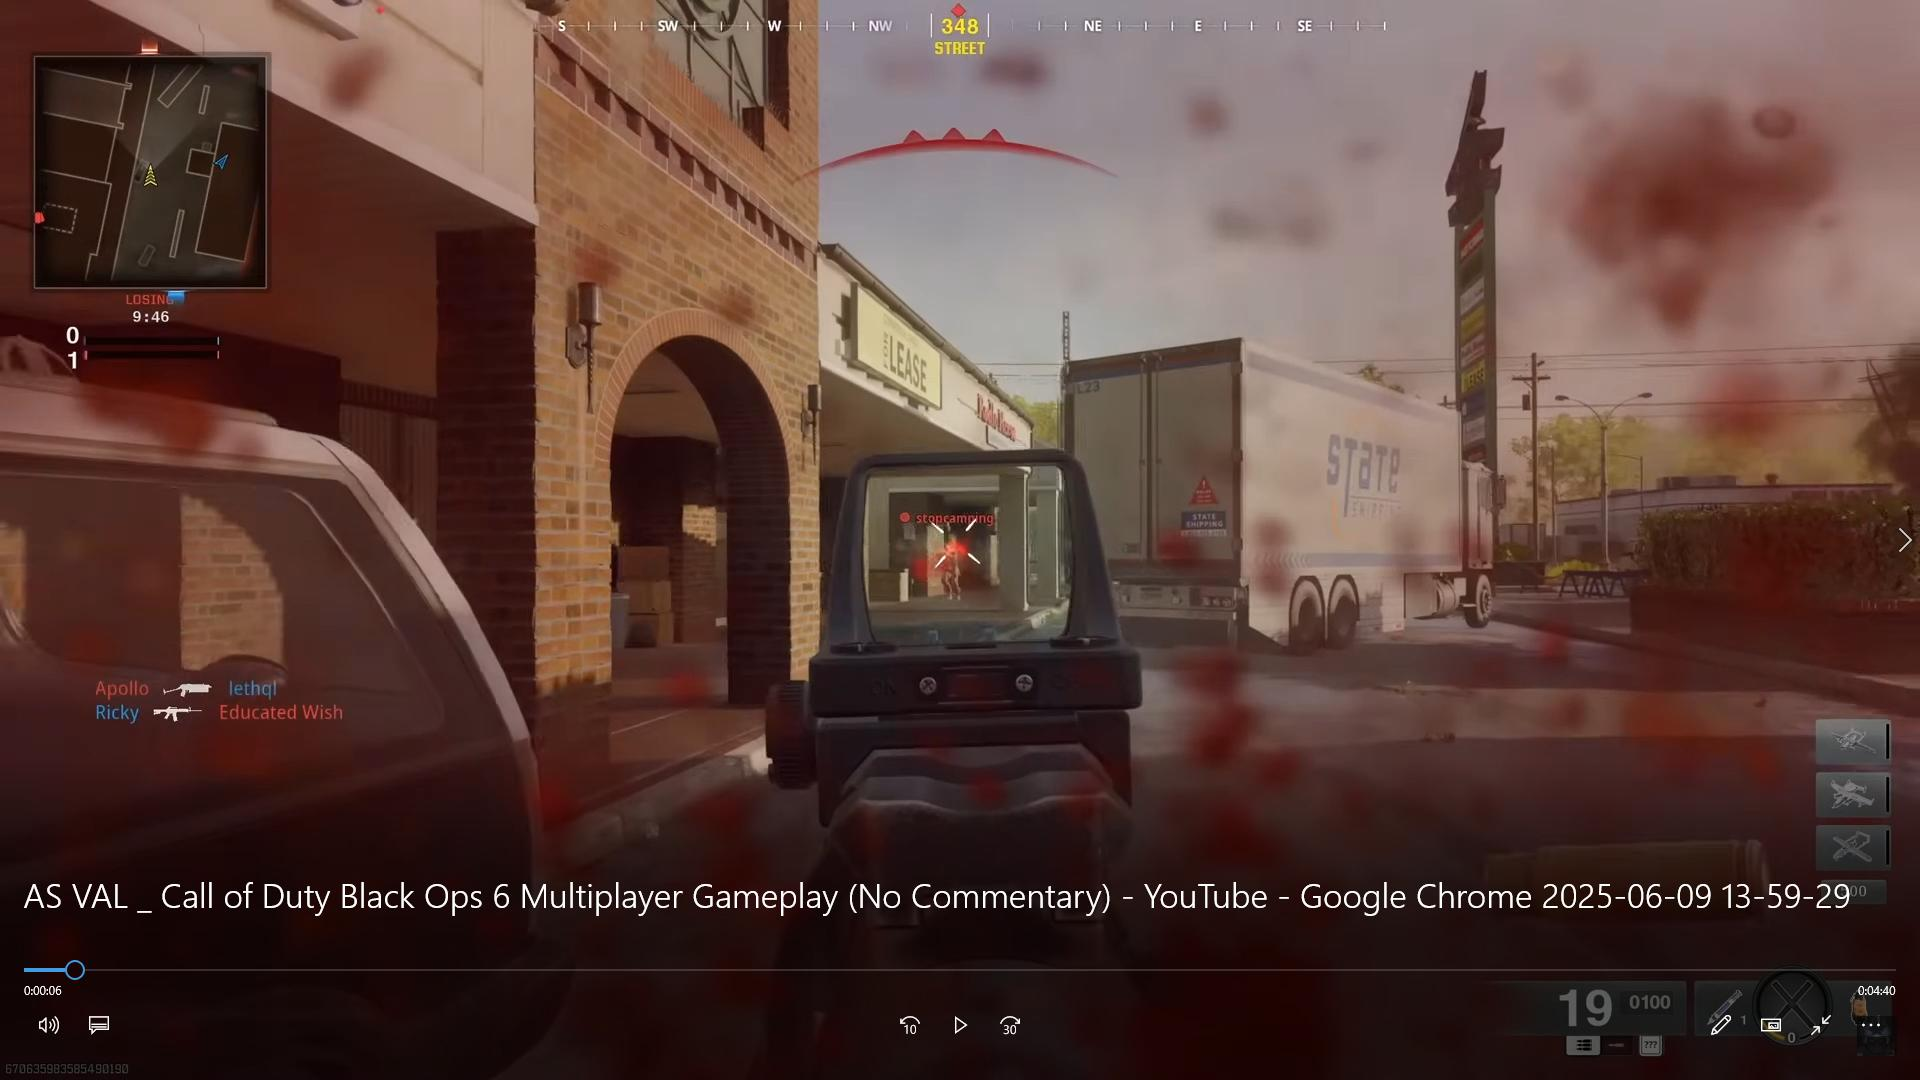Enemy: (932, 538, 965, 600)
